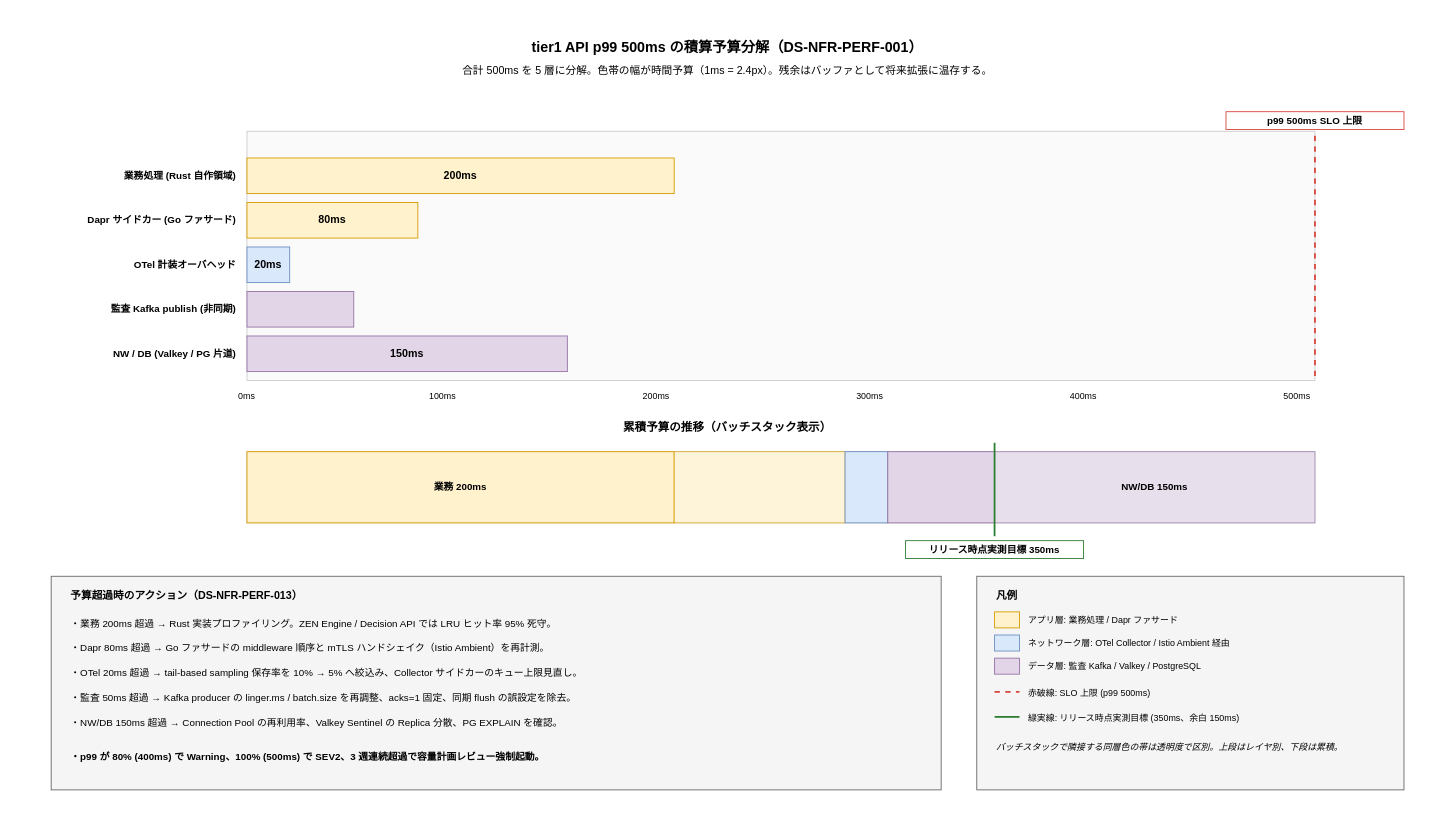
This 1454x831 diagram has some shape labels left out. The shapes that lost their labels are listed below. From the top down, each one's centre as x and y in pixels, then its label:
At point 300,309: "50ms".
At point 759,487: "Dapr 80ms".
At point 866,487: "OTel 20ms".
At point 941,487: "監査 50ms".
